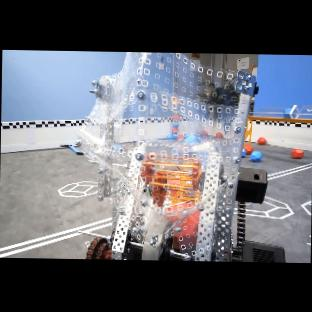Robot: (76, 51, 285, 262)
